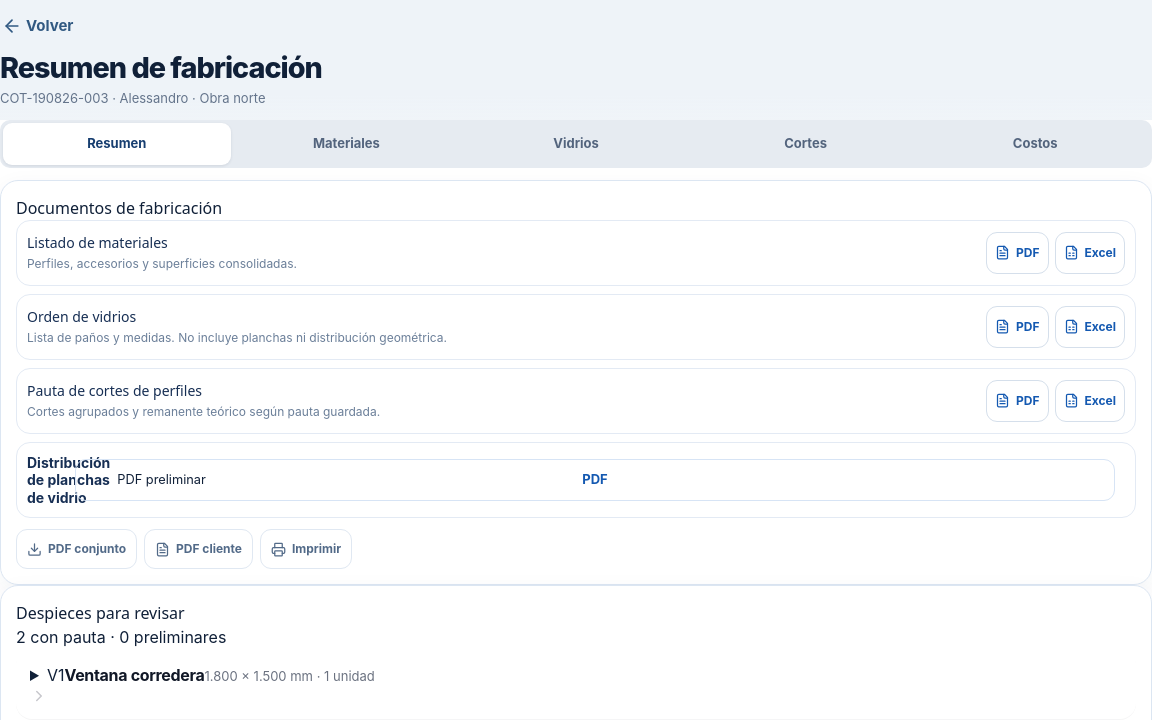
FabricacionResumenMovil › muestra los costos solo en su pestaña
Step 1. Click the tab "Costos" → (1035, 144), box [921,123,1149,165]
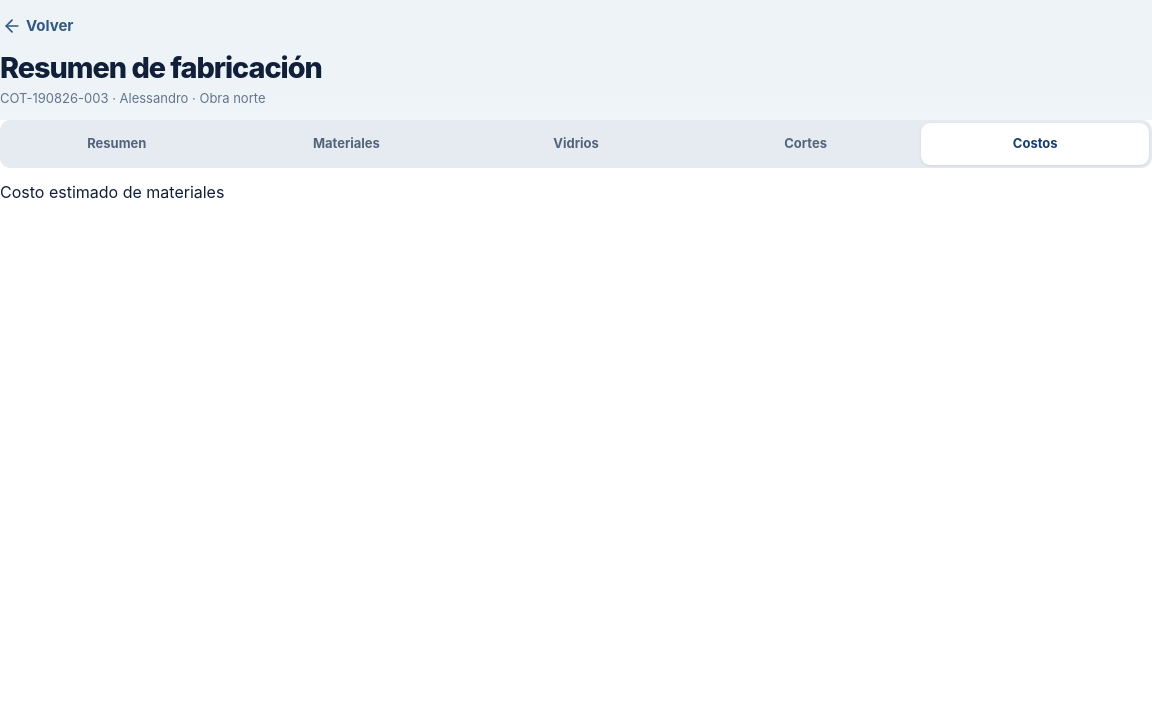
Check: the text "Costo estimado de materiales" is shown, box [0,182,224,202]
